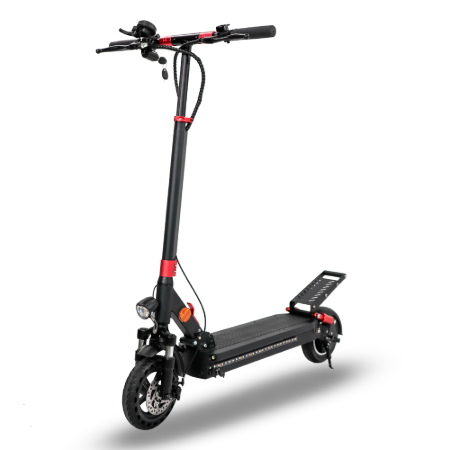kick_board: (88, 17, 346, 432)
kick_body: (197, 313, 317, 368)
kick_handler: (91, 19, 279, 53)
kick_neck: (153, 53, 209, 334)
kick_wheel: (118, 349, 189, 433), (298, 306, 345, 365)
